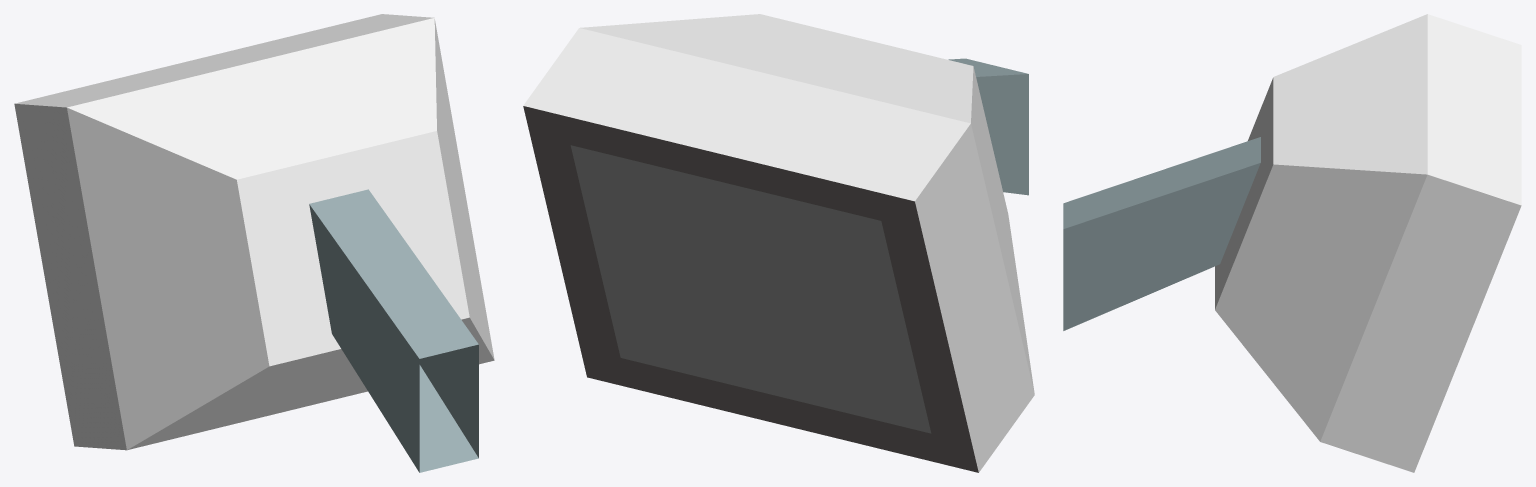
The picture shows the model from 3 angles, left to right: view 1: azimuth 30°, elevation 25°; view 2: azimuth 150°, elevation 25°; view 3: azimuth 270°, elevation 25°; orthographic projection. The views are drawn at different scales.
Visible parts, largest first — view 1: SM_TV_02; view 2: SM_TV_02; view 3: SM_TV_02.
Part boxes in pixels (x1,y1,x2,y2): SM_TV_02: (14,14,494,472); SM_TV_02: (523,14,1034,472); SM_TV_02: (1063,14,1521,472).
Bounding box in the file's own units: 76.21 × 66.04 × 91.92.
1 material, 1 textured.
